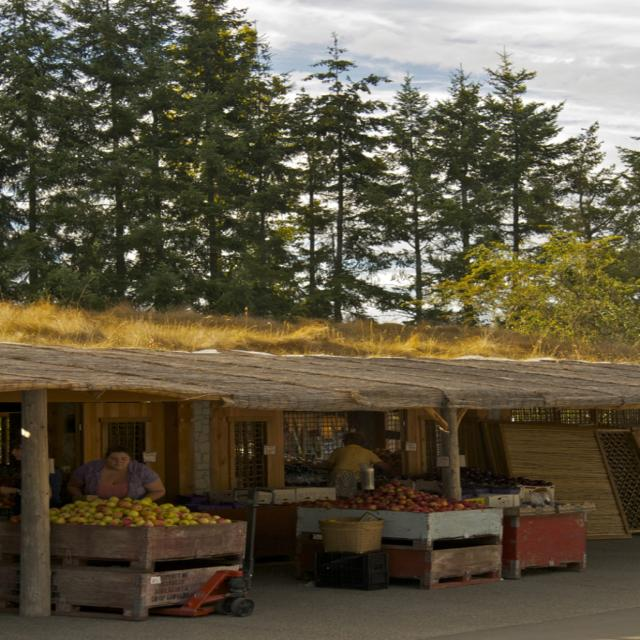Healty Apple: (8, 497, 237, 528), (283, 479, 489, 512), (104, 514, 112, 522)
